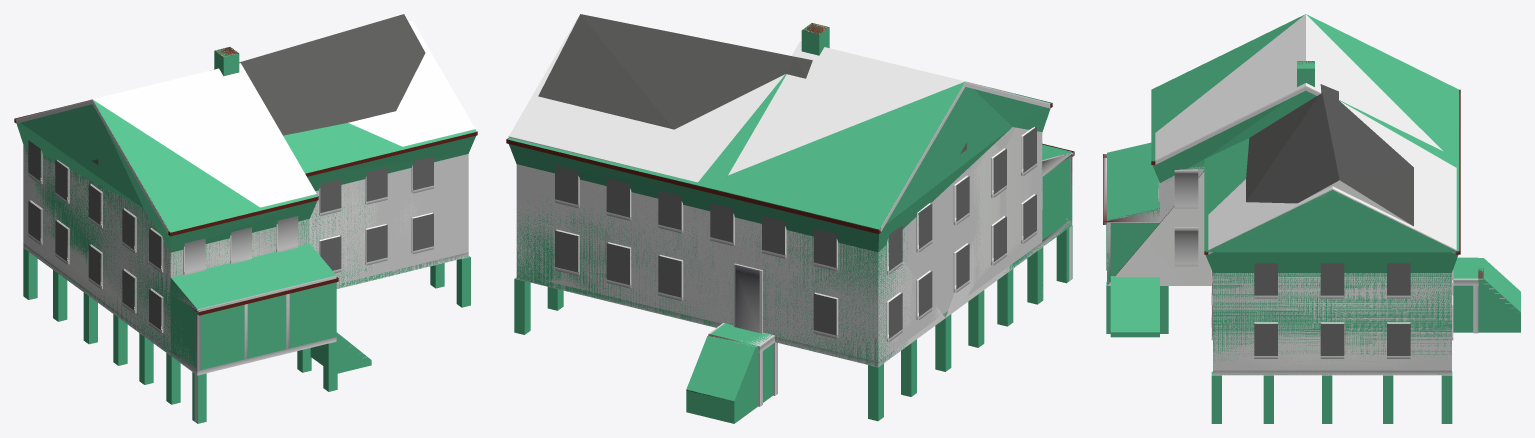
Rendered from eca_bld_house_01_a.dae.
3 views of the same model, side by side, from view 1: azimuth 30°, elevation 25°; view 2: azimuth 150°, elevation 25°; view 3: azimuth 270°, elevation 25° (orthographic). The views are drawn at different scales.
Parts seen in each view (by area): view 1: Colmesh-1, ind_bld_a500, ind_bld_a100, ind_bld_a60; view 2: Colmesh-1, ind_bld_a100, ind_bld_a500, ind_bld_a60; view 3: Colmesh-1, ind_bld_a100, ind_bld_a500, ind_bld_a60.
Part boxes in pixels (x1=…): Colmesh-1: x1=15, y1=49, x2=476, y2=423; ind_bld_a500: x1=16, y1=21, x2=475, y2=360; ind_bld_a100: x1=14, y1=47, x2=477, y2=423; ind_bld_a60: x1=25, y1=14, x2=467, y2=366; Colmesh-1: x1=507, y1=23, x2=1072, y2=423; ind_bld_a100: x1=506, y1=23, x2=1074, y2=406; ind_bld_a500: x1=508, y1=16, x2=1072, y2=358; ind_bld_a60: x1=516, y1=14, x2=1070, y2=366; Colmesh-1: x1=1106, y1=14, x2=1520, y2=423; ind_bld_a100: x1=1103, y1=61, x2=1483, y2=375; ind_bld_a500: x1=1107, y1=14, x2=1513, y2=370; ind_bld_a60: x1=1107, y1=84, x2=1413, y2=285.
Size of the model in its own units: 14.4 by 15.75 by 10.99.
